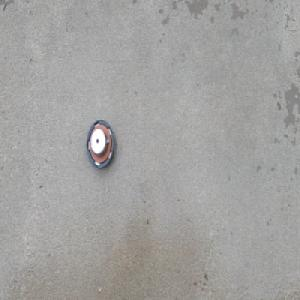FuelCap: (85, 117, 115, 170)
